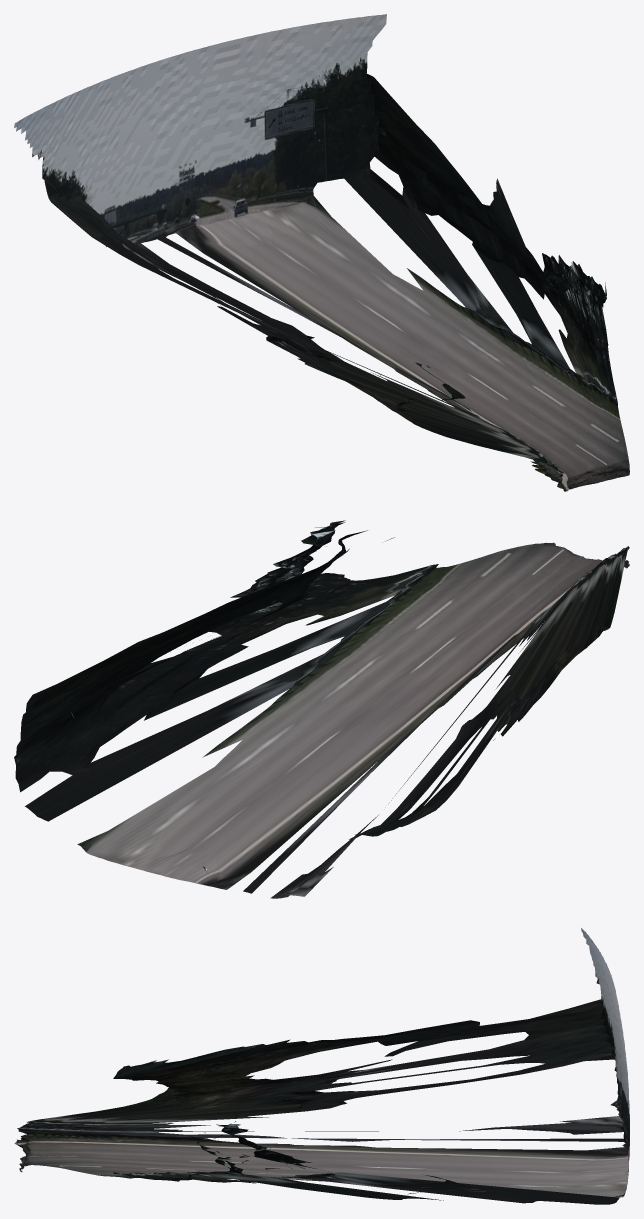
3 renders of one model, top to bottom at view 1: azimuth 30°, elevation 25°; view 2: azimuth 150°, elevation 25°; view 3: azimuth 270°, elevation 25°, orthographic. The views are drawn at different scales.
Visible parts, largest first — view 1: defaultobject; view 2: defaultobject; view 3: defaultobject.
Part boxes in pixels (x1,y1,x2,y2): defaultobject: [14, 14, 629, 491]; defaultobject: [14, 520, 629, 898]; defaultobject: [14, 928, 629, 1204].
Size of the model in its own units: 29.22 by 12.37 by 44.82.
1 material, 1 textured.
